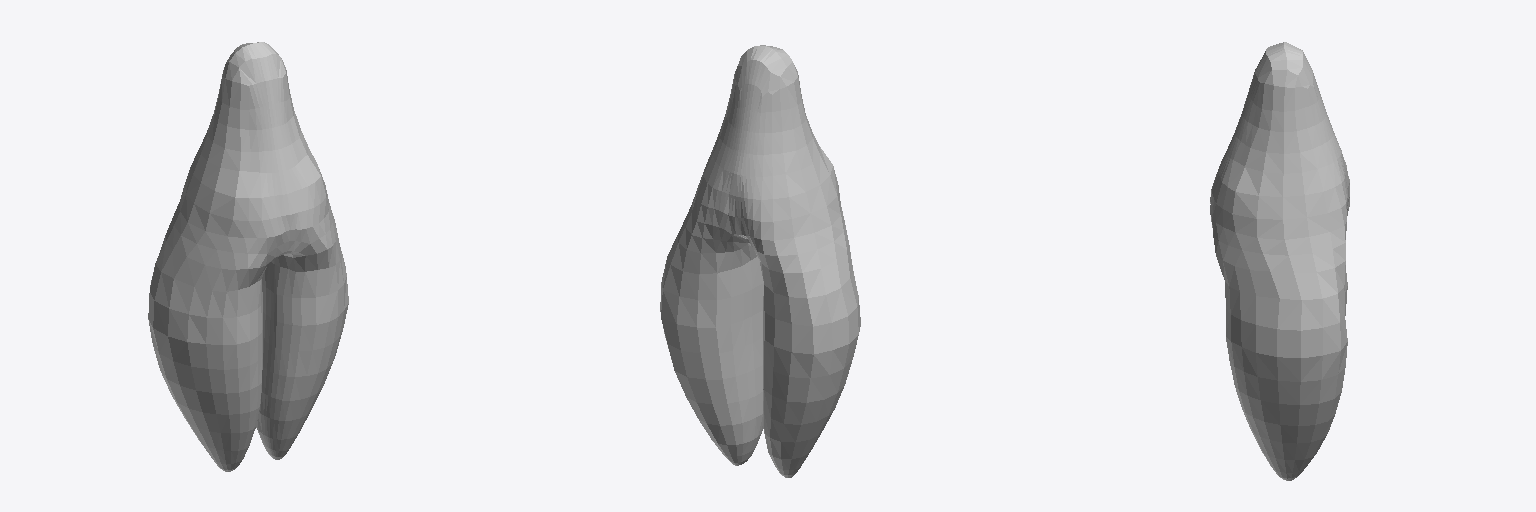
File: body.obj
The picture shows the model from 3 angles: view 1: azimuth 30°, elevation 25°; view 2: azimuth 150°, elevation 25°; view 3: azimuth 270°, elevation 25°; orthographic projection.
Visible parts, largest first — view 1: Cube.007; view 2: Cube.007; view 3: Cube.007.
Boxes of the visible parts, <box> form: Cube.007: <box>148,42,348,471</box>; Cube.007: <box>660,45,860,477</box>; Cube.007: <box>1210,42,1349,480</box>.
Bounding box in the file's own units: 1.79 × 3.93 × 1.19.